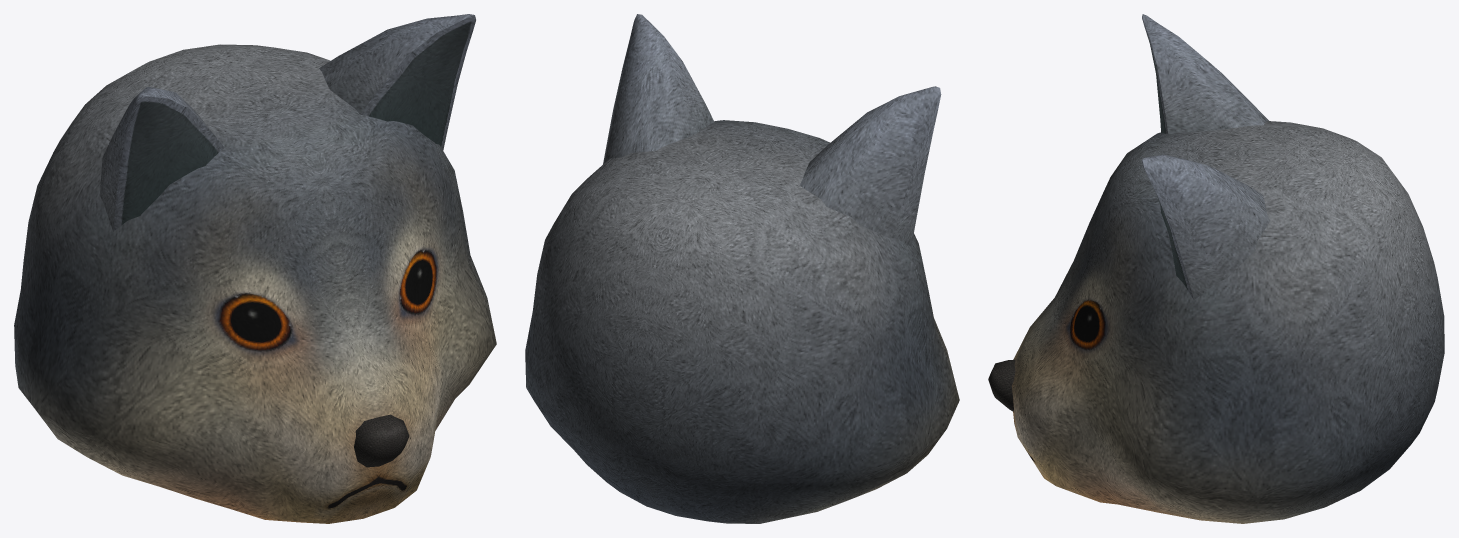
File: CRT0110003.FBX
3 renders of one model, left to right at view 1: azimuth 30°, elevation 25°; view 2: azimuth 150°, elevation 25°; view 3: azimuth 270°, elevation 25°, orthographic. The views are drawn at different scales.
Visible parts, largest first — view 1: smCRT0110003; view 2: smCRT0110003; view 3: smCRT0110003.
Part boxes in pixels (<box>): smCRT0110003: <box>14,14,496,523</box>; smCRT0110003: <box>525,14,959,523</box>; smCRT0110003: <box>988,14,1444,523</box>.
Bounding box in the file's own units: 0.1446 × 0.1488 × 0.1506.
1 material, 1 textured.
